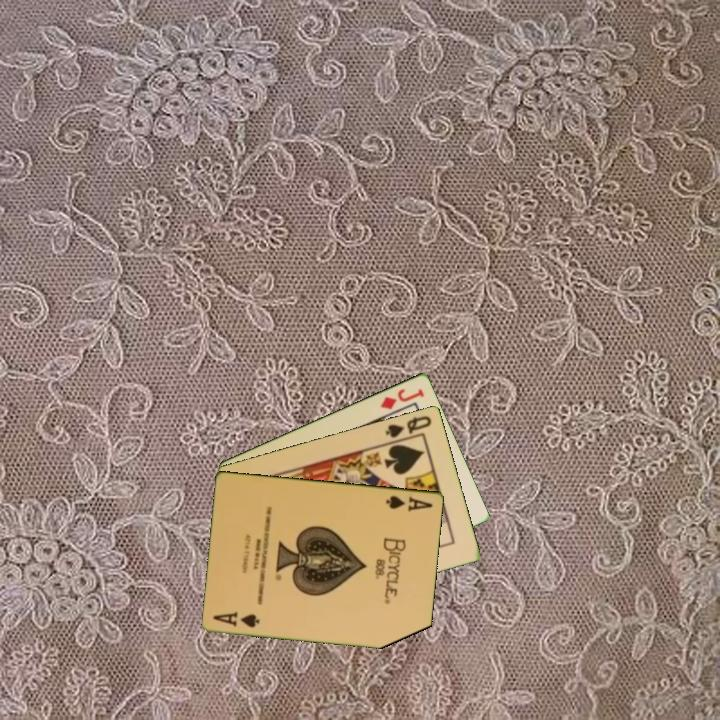As: (383, 492, 436, 514), (210, 608, 263, 630)
Jd: (377, 384, 428, 412)
Qs: (382, 412, 434, 440)
